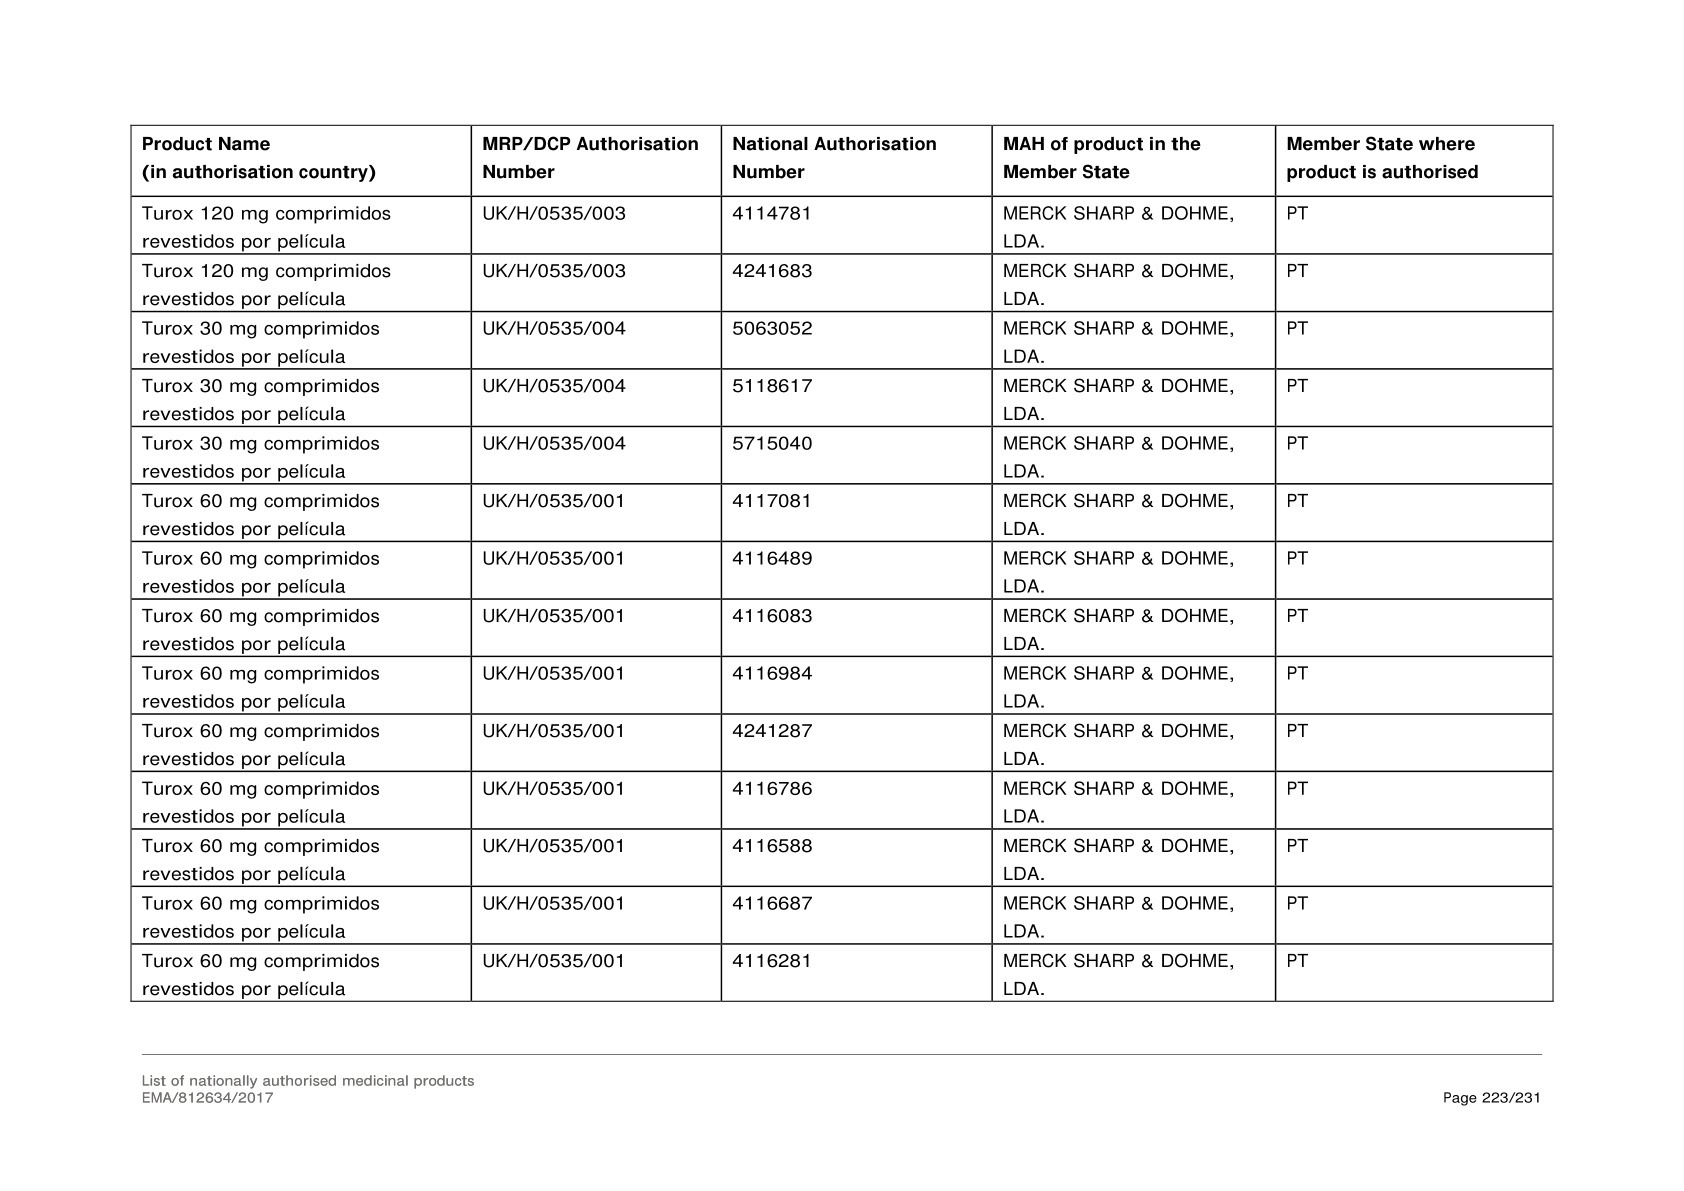full_lined: (129, 122, 1555, 1003)
